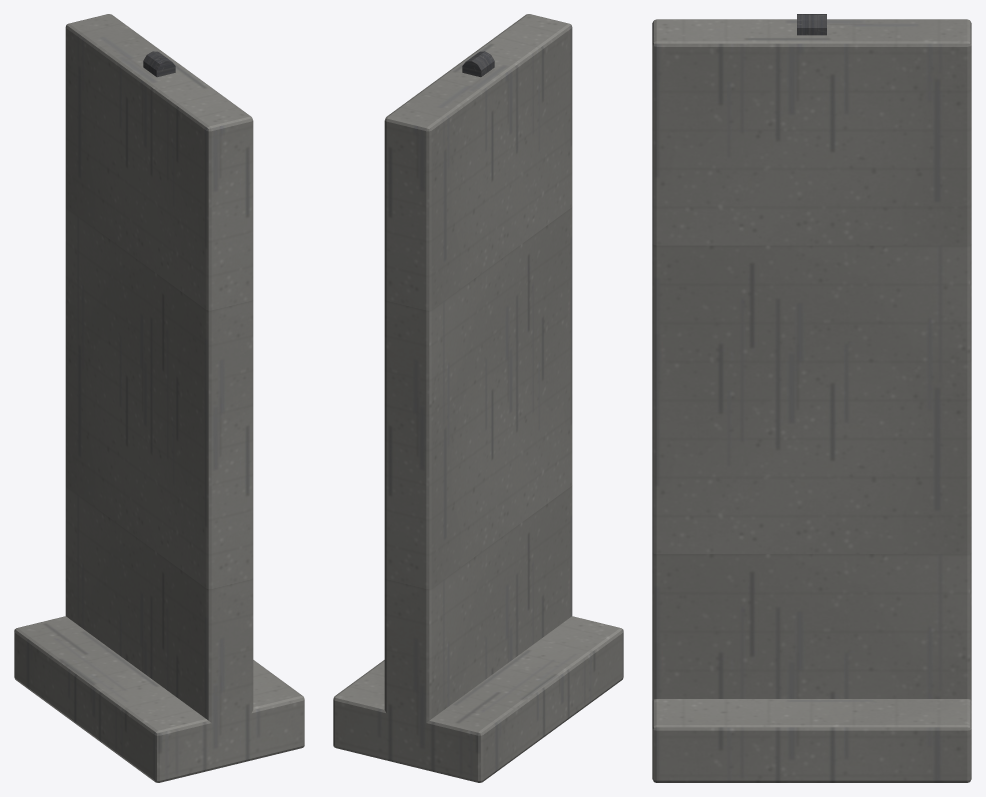
File: twall.glb
3 views of the same model, side by side, from view 1: azimuth 30°, elevation 25°; view 2: azimuth 150°, elevation 25°; view 3: azimuth 270°, elevation 25° (orthographic). The views are drawn at different scales.
Visible parts, largest first — view 1: twall; view 2: twall; view 3: twall.
Boxes of the visible parts, box(x1,y1,x2,y2) form: twall: box(14, 14, 304, 782); twall: box(333, 14, 623, 782); twall: box(652, 14, 971, 782).
Size of the model in its own units: 0.9 by 3.78 by 1.5.
2 materials, 2 textured.
